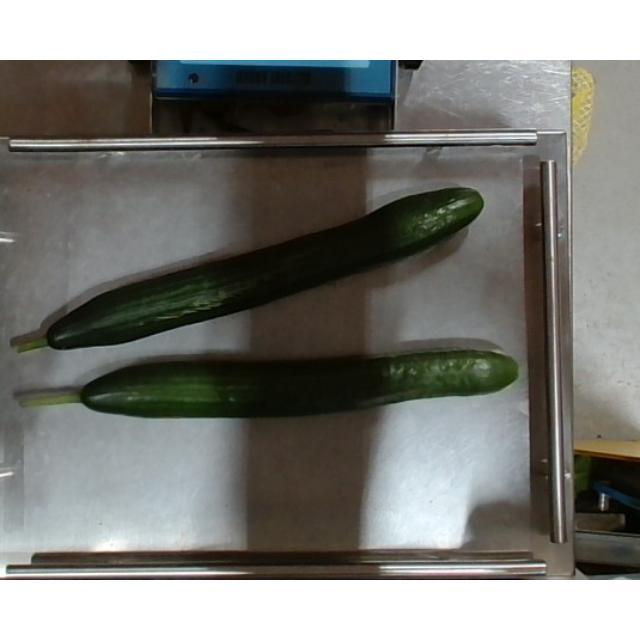cucumber: (17, 188, 486, 356), (21, 349, 519, 418)
